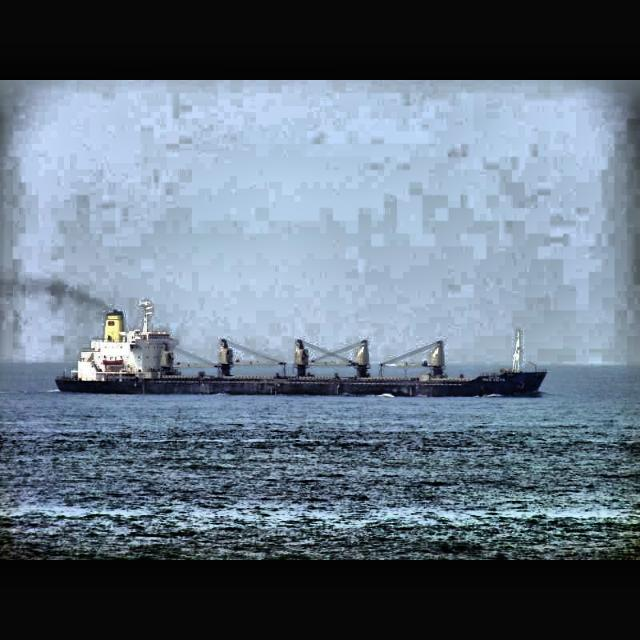bulk_carrier: (54, 298, 550, 398)
